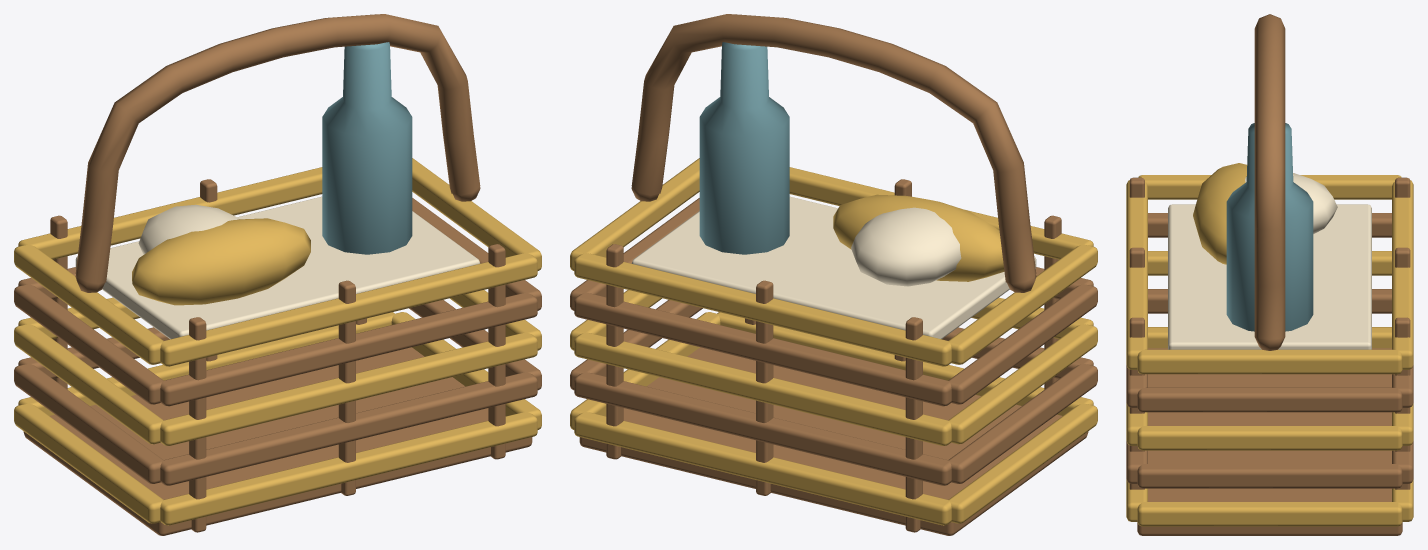
File: almanac-gardens-picnic-hamper-83aa58c8__22075.glb
The picture shows the model from 3 angles, left to right: view 1: azimuth 30°, elevation 25°; view 2: azimuth 150°, elevation 25°; view 3: azimuth 270°, elevation 25°; orthographic projection. The views are drawn at different scales.
Parts seen in each view (by area): view 1: picnic-hamper-oak, picnic-hamper-gold, picnic-hamper-ivory, picnic-hamper-blue; view 2: picnic-hamper-oak, picnic-hamper-gold, picnic-hamper-ivory, picnic-hamper-blue; view 3: picnic-hamper-oak, picnic-hamper-gold, picnic-hamper-ivory, picnic-hamper-blue.
Boxes of the visible parts, x1=… form: picnic-hamper-oak: x1=14, y1=14, x2=541, y2=535; picnic-hamper-gold: x1=14, y1=158, x2=541, y2=525; picnic-hamper-ivory: x1=75, y1=196, x2=480, y2=339; picnic-hamper-blue: x1=322, y1=42, x2=412, y2=254; picnic-hamper-oak: x1=570, y1=14, x2=1097, y2=535; picnic-hamper-gold: x1=570, y1=158, x2=1097, y2=525; picnic-hamper-ivory: x1=631, y1=196, x2=1036, y2=339; picnic-hamper-blue: x1=699, y1=42, x2=789, y2=254; picnic-hamper-oak: x1=1126, y1=14, x2=1413, y2=535; picnic-hamper-gold: x1=1126, y1=163, x2=1413, y2=526; picnic-hamper-ivory: x1=1168, y1=173, x2=1371, y2=349; picnic-hamper-blue: x1=1226, y1=123, x2=1313, y2=331.
Bounding box in the file's own units: 0.72 × 0.7095 × 0.465.
